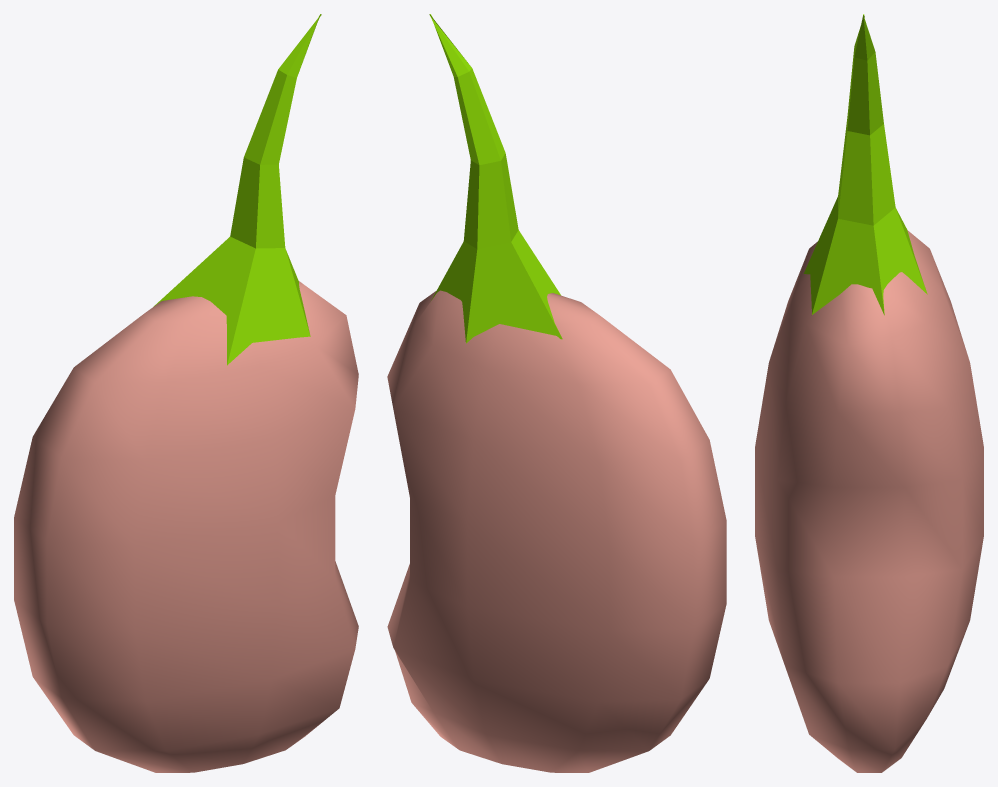
File: Lima Bean Germination Seed 1.fbx
3 views of the same model, side by side, from view 1: azimuth 30°, elevation 25°; view 2: azimuth 150°, elevation 25°; view 3: azimuth 270°, elevation 25° (orthographic). The views are drawn at different scales.
Parts seen in each view (by area): view 1: Sphere.002, Cylinder; view 2: Sphere.002, Cylinder; view 3: Sphere.002, Cylinder.
Part boxes in pixels (x1,y1,x2,y2): Sphere.002: [14, 281, 358, 772]; Cylinder: [153, 14, 321, 365]; Sphere.002: [387, 290, 726, 772]; Cylinder: [429, 14, 562, 343]; Sphere.002: [755, 230, 983, 772]; Cylinder: [803, 14, 927, 315].
Bounding box in the file's own units: 141 × 315 × 83.38.
